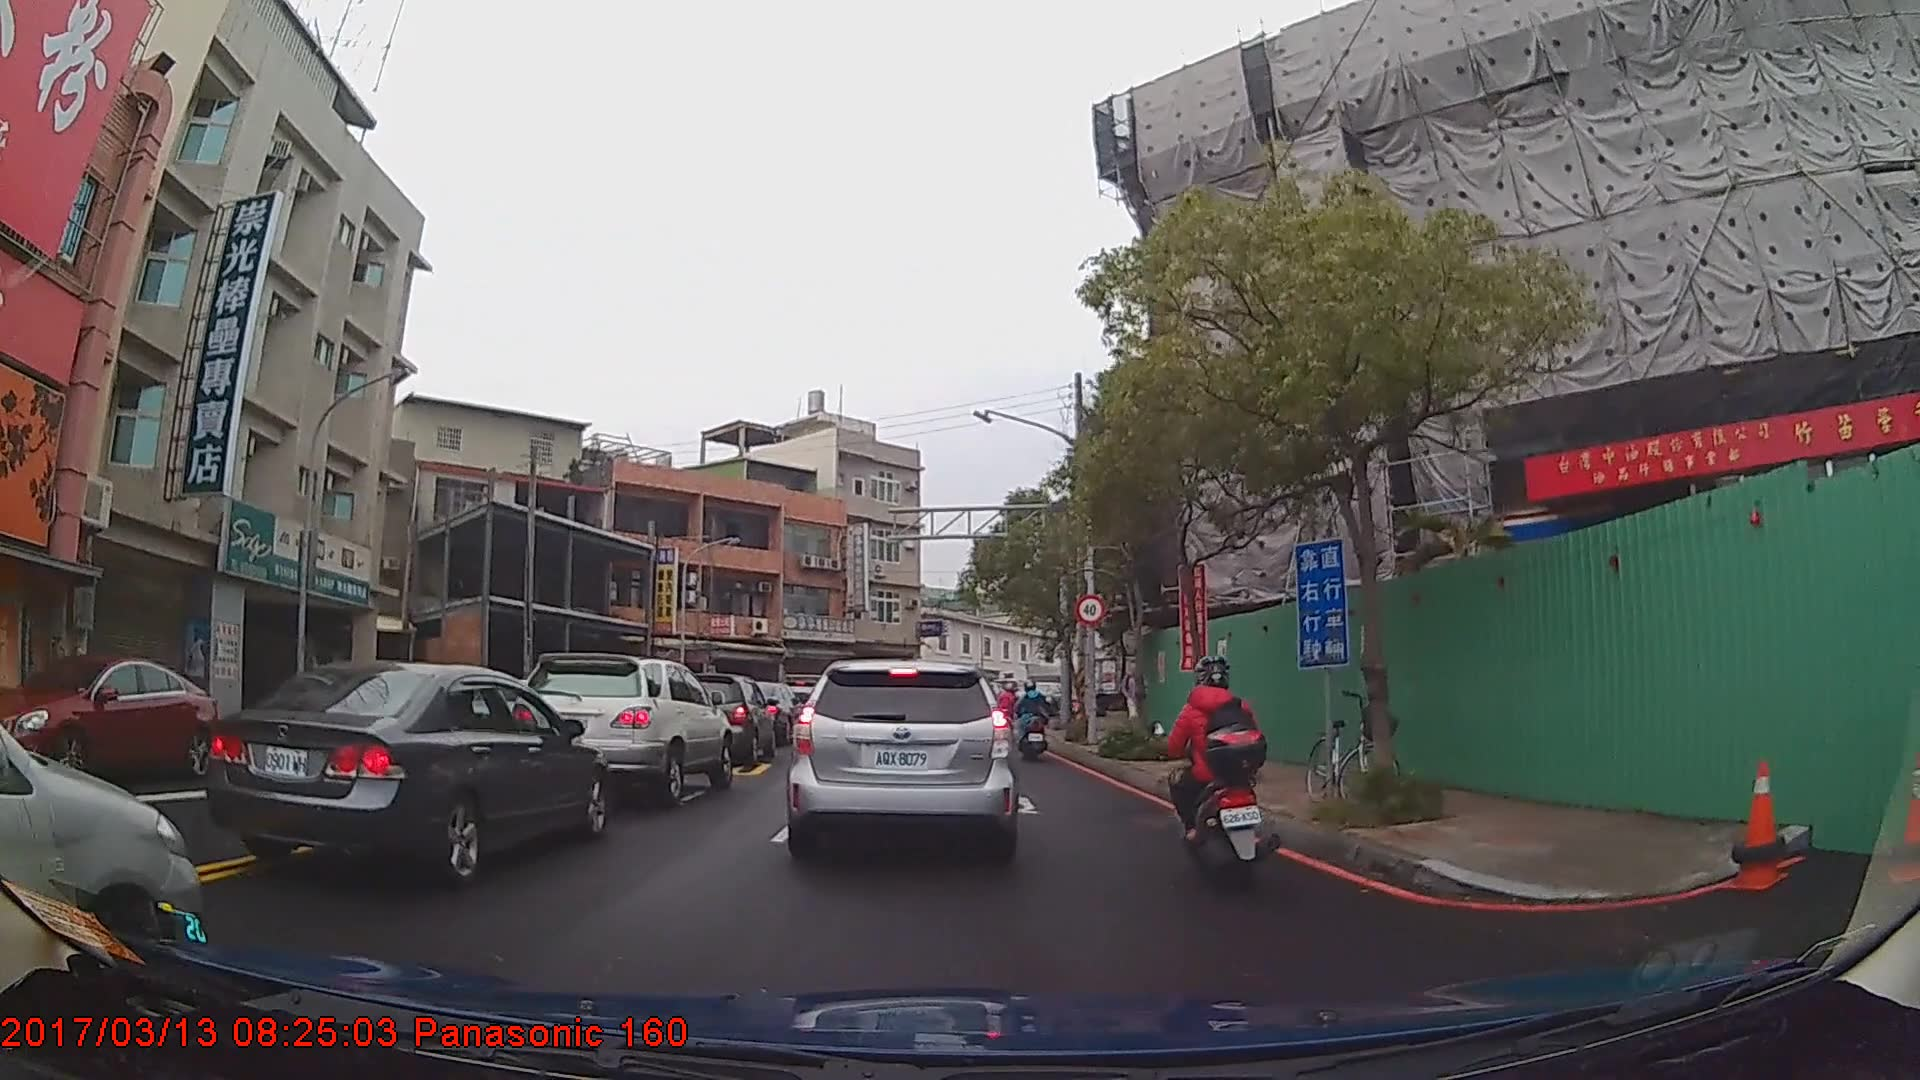pedestrian: (1118, 663, 1147, 741)
rider: (1158, 650, 1278, 884), (1015, 683, 1055, 769), (996, 682, 1021, 741)
vehicle: (208, 660, 607, 882), (0, 717, 204, 993), (783, 658, 1022, 858), (513, 650, 730, 808), (12, 654, 218, 781), (677, 672, 776, 769)
